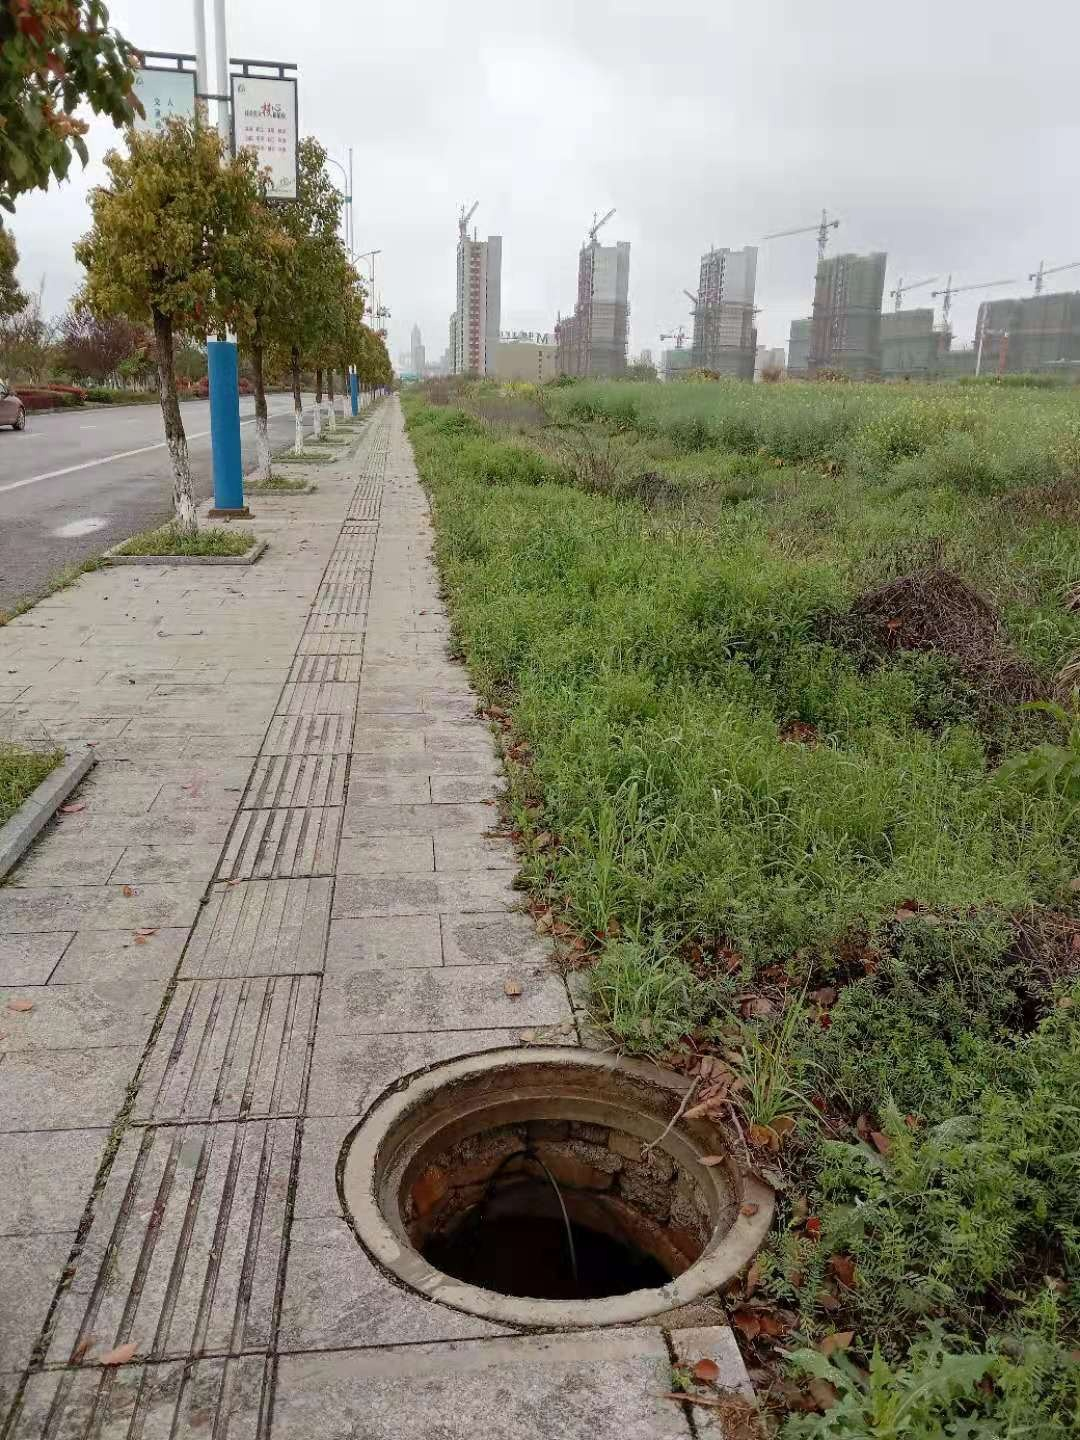lose: (343, 1045, 778, 1324)
